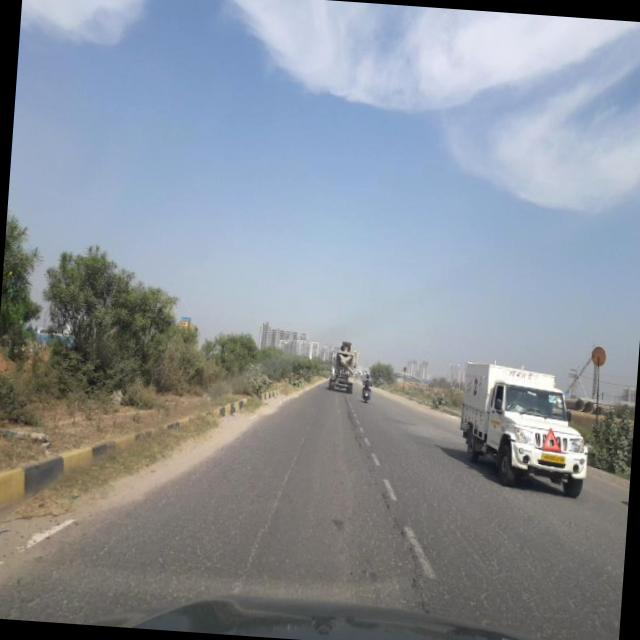crack: (30, 448, 628, 630)
pothole: (238, 420, 308, 594)
